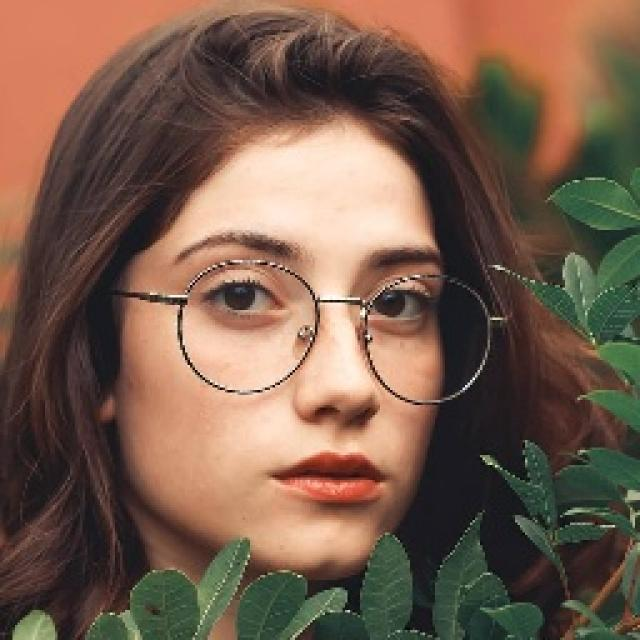glasses: (100, 252, 515, 409)
